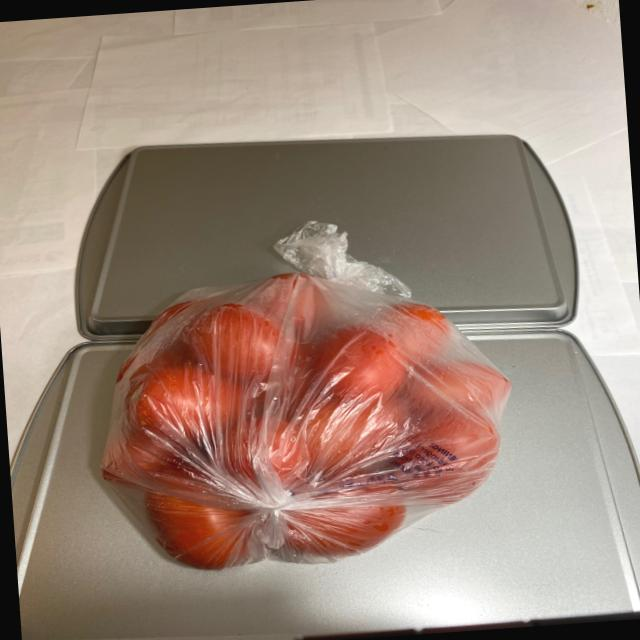tomato: (94, 266, 516, 569)
